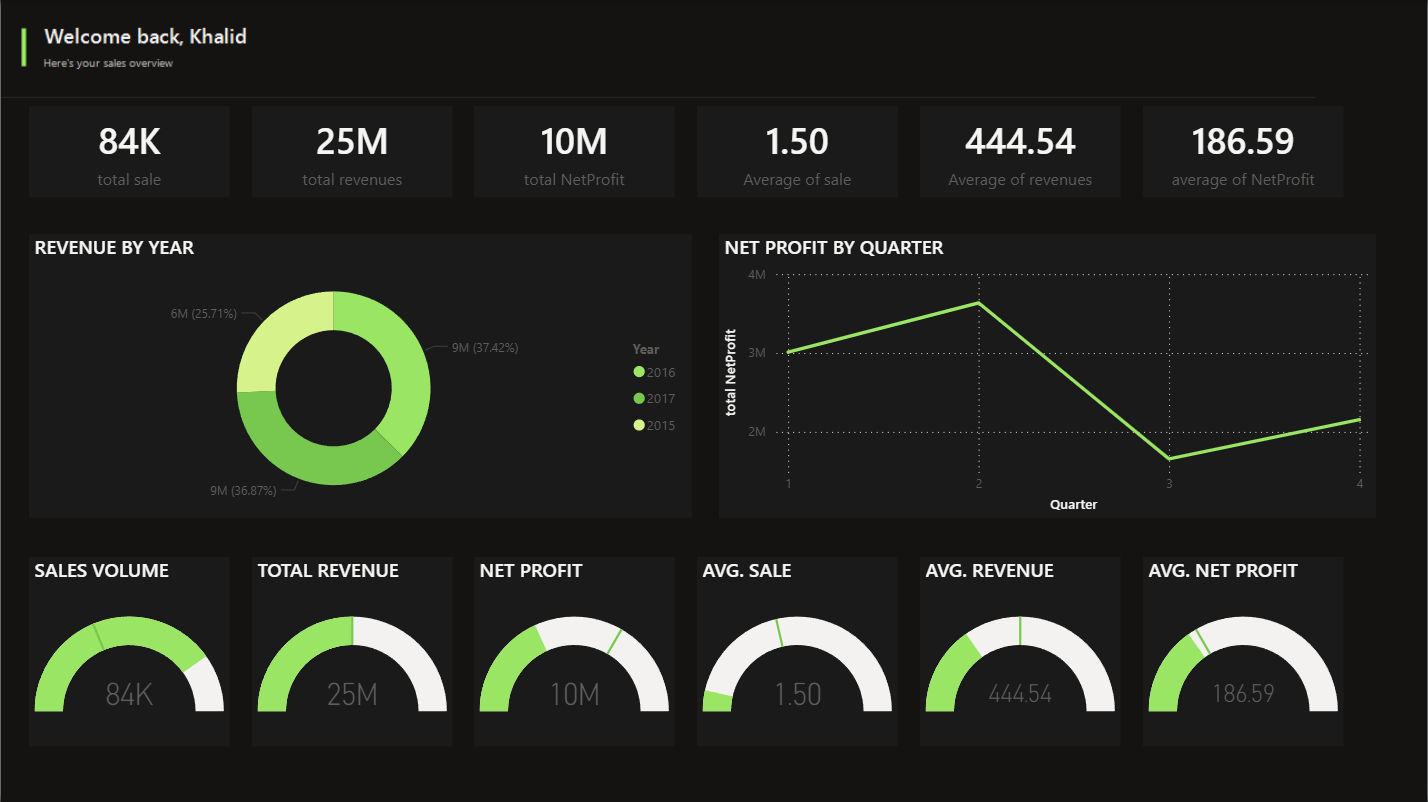

What the dashboard file says about the page in this screenshot:
{"tool":"powerbi","page":{"name":"SALES REPORT","canvas":[1280,720],"ordinal":0},"visuals":[{"type":"textbox","box":[544.4,13.1,290.9,67.7],"z":1000},{"type":"donutChart","title":"REVENUE BY YEAR","fields":{"Category":["Categories.CategoryName","Calendar.Year"],"Y":["all measures.total revenues"]},"box":[25,210,595,255],"z":2000},{"type":"lineChart","title":"NET PROFIT BY QUARTER","fields":{"Category":["Calendar.Quarter"],"Y":["all measures.total NetProfit"]},"box":[645,210,590,255],"z":3000},{"type":"card","fields":{"Values":["all measures.total sale"]},"box":[25,95,180,82],"z":4000},{"type":"card","fields":{"Values":["all measures.total revenues"]},"box":[225,95,180,82],"z":5000},{"type":"card","fields":{"Values":["all measures.total NetProfit"]},"box":[425,95,180,82],"z":6000},{"type":"card","fields":{"Values":["all measures.Average of sale"]},"box":[625,95,180,82],"z":7000},{"type":"card","fields":{"Values":["all measures.Average of revenues"]},"box":[825,95,180,82],"z":8000},{"type":"card","fields":{"Values":["all measures.average of NetProfit"]},"box":[1025,95,180,82],"z":9000},{"type":"gauge","title":"SALES VOLUME","fields":{"Y":["all measures.total sale"],"MinValue":["all measures.total sale min"],"MaxValue":["all measures.total sale max"],"TargetValue":["all measures.total sale target"]},"box":[25,500,180,170],"z":10000},{"type":"gauge","title":"TOTAL REVENUE","fields":{"Y":["all measures.total revenues"],"MinValue":["all measures.total revenues min"],"MaxValue":["all measures.total revenues max"],"TargetValue":["all measures.total revenues target"]},"box":[225,500,180,170],"z":11000},{"type":"gauge","title":"NET PROFIT","fields":{"Y":["all measures.total NetProfit"],"MinValue":["all measures.total NetProfit min"],"MaxValue":["all measures.total NetProfit max"],"TargetValue":["all measures.total NetProfit target"]},"box":[425,500,180,170],"z":12000},{"type":"gauge","title":"AVG. SALE","fields":{"Y":["all measures.Average of sale"],"MinValue":["all measures.Average of sale min"],"MaxValue":["all measures.Average of sale max"],"TargetValue":["all measures.Average of sale target"]},"box":[625,500,180,170],"z":13000},{"type":"gauge","title":"AVG. REVENUE","fields":{"Y":["all measures.Average of revenues"],"MinValue":["all measures.Average of revenues min"],"MaxValue":["all measures.Average of revenues max"],"TargetValue":["all measures.Average of revenues target"]},"box":[825,500,180,170],"z":14000},{"type":"gauge","title":"AVG. NET PROFIT","fields":{"Y":["all measures.average of NetProfit"],"MinValue":["all measures.average of NetProfit min"],"MaxValue":["all measures.average of NetProfit max"],"TargetValue":["all measures.average of NetProfit target"]},"box":[1025,500,180,170],"z":15000},{"type":"image","box":[0,0,1180,88],"z":16000}]}

Visuals, with their boxes in screenshot pixels (x1, y1, x2, y2), scaled from the page's 1280x720 canvas onto the 1428x802 screenshot:
textbox: region(607, 15, 932, 90)
"REVENUE BY YEAR" donutChart: region(28, 234, 692, 518)
"NET PROFIT BY QUARTER" lineChart: region(720, 234, 1378, 518)
card - all measures.total sale: region(28, 106, 229, 197)
card - all measures.total revenues: region(251, 106, 452, 197)
card - all measures.total NetProfit: region(474, 106, 675, 197)
card - all measures.Average of sale: region(697, 106, 898, 197)
card - all measures.Average of revenues: region(920, 106, 1121, 197)
card - all measures.average of NetProfit: region(1144, 106, 1344, 197)
"SALES VOLUME" gauge: region(28, 557, 229, 746)
"TOTAL REVENUE" gauge: region(251, 557, 452, 746)
"NET PROFIT" gauge: region(474, 557, 675, 746)
"AVG. SALE" gauge: region(697, 557, 898, 746)
"AVG. REVENUE" gauge: region(920, 557, 1121, 746)
"AVG. NET PROFIT" gauge: region(1144, 557, 1344, 746)
image: region(0, 0, 1316, 98)
